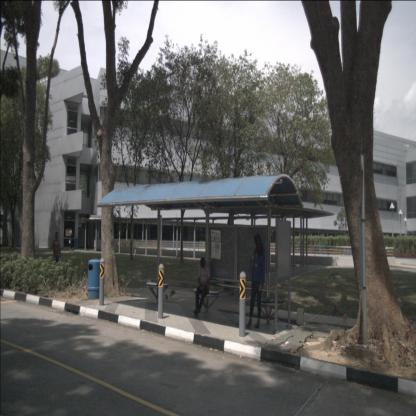human-pedestrian-adult: (247, 234, 265, 328), (194, 257, 210, 317), (52, 232, 61, 282), (69, 230, 74, 251)
